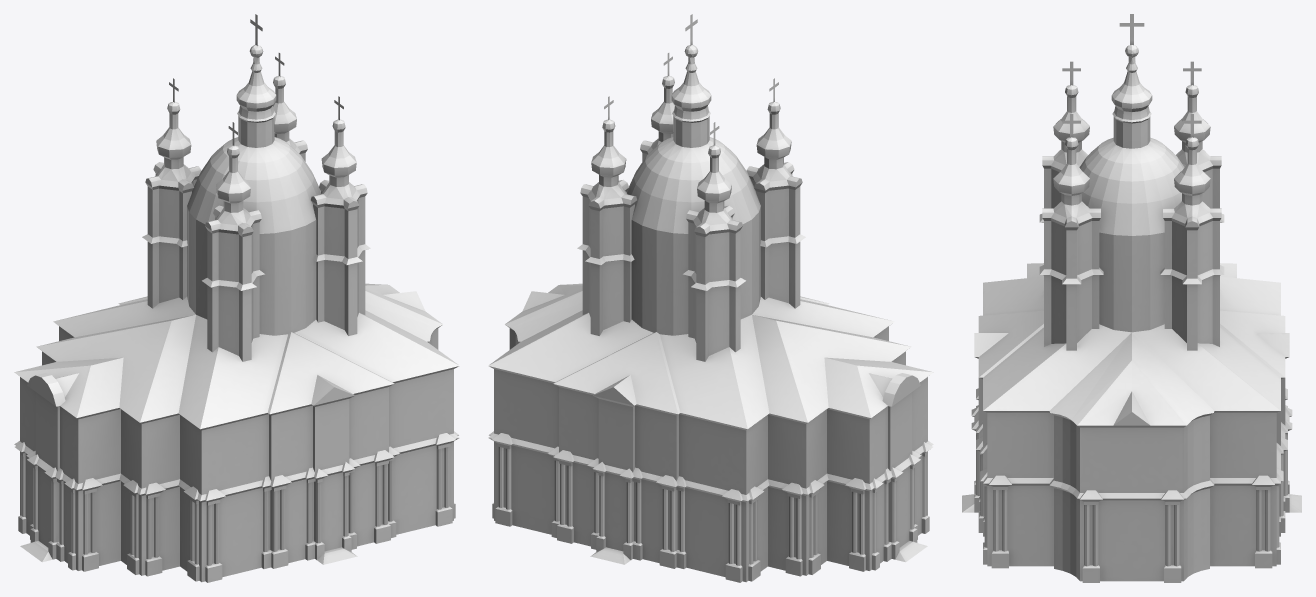
Rendered from smolnycathedral.dae.
3 views of the same model, side by side, from view 1: azimuth 30°, elevation 25°; view 2: azimuth 150°, elevation 25°; view 3: azimuth 270°, elevation 25° (orthographic).
Parts seen in each view (by area): view 1: SmolnyCathedral; view 2: SmolnyCathedral; view 3: SmolnyCathedral.
Part boxes in pixels (x1,y1,x2,y2): SmolnyCathedral: [14, 14, 459, 582]; SmolnyCathedral: [488, 14, 933, 582]; SmolnyCathedral: [962, 14, 1301, 582].
Bounding box in the file's own units: 0.1196 × 0.0897 × 0.1427.
Materials: 1 (1 with a texture image).
